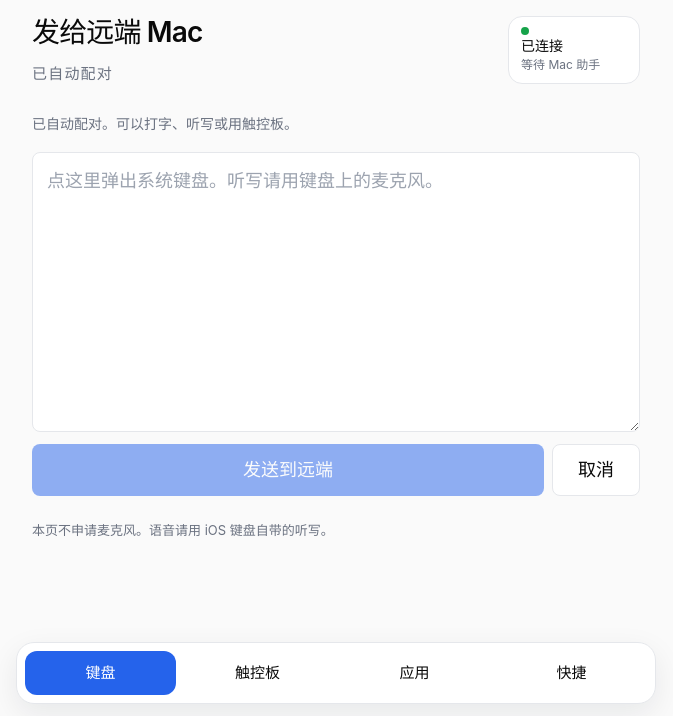
Scenario: PhoneInputBridgePage › sends typed text to the active bridge
Expected: the text "已自动配对。可以打字、听写或用触控板。" is shown, [32, 115, 298, 132]
Type "你好 Mac" into the text box with placeholder "点这里弹出系统键盘。听写请用键盘上的麦克风。" at point(336, 292), box [32, 152, 640, 432]
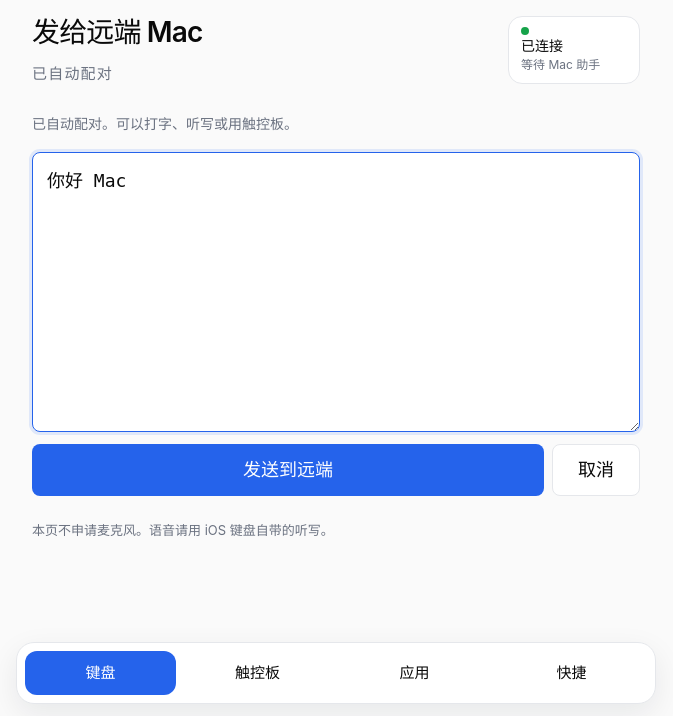
Click the button "发送到远端" at point(288, 470), box [32, 444, 544, 496]
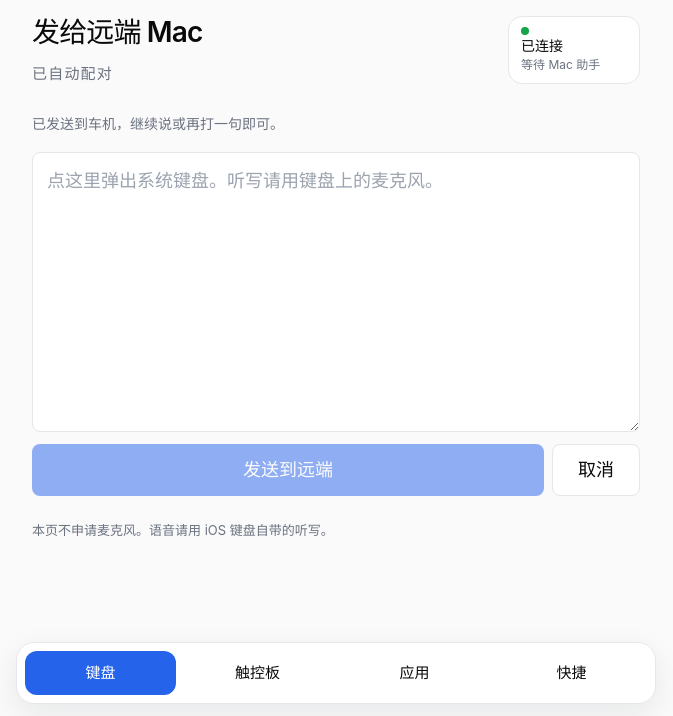
Expected: the text "已发送到车机，继续说或再打一句即可。" is shown, [32, 115, 284, 132]
